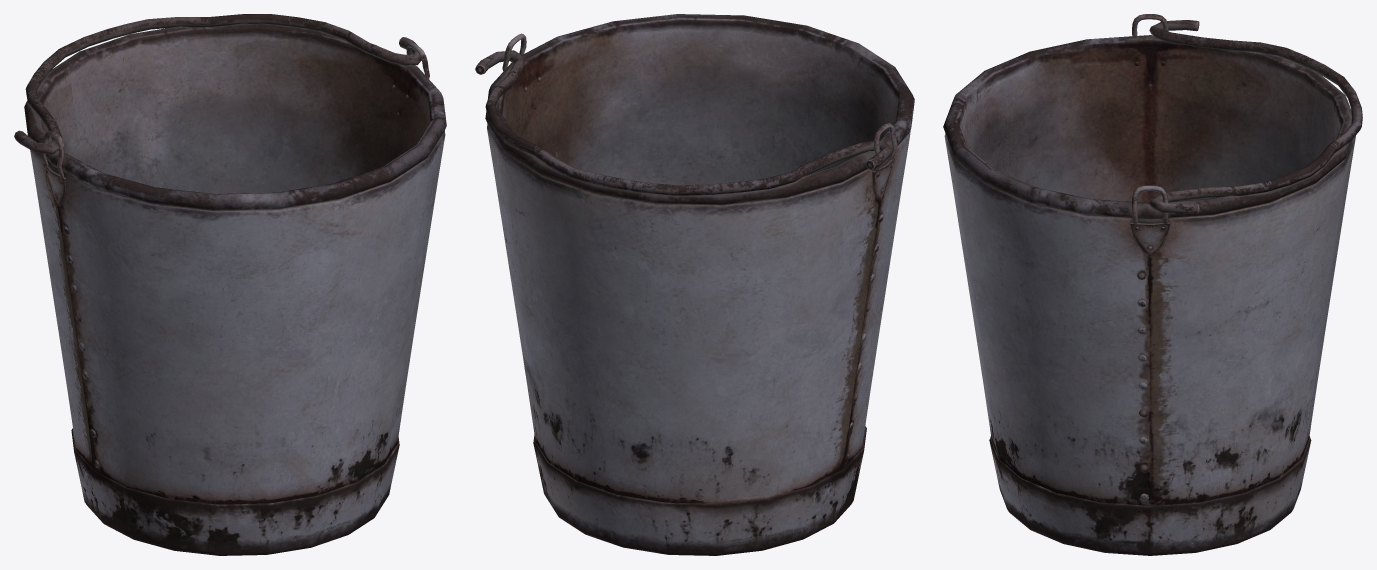
The model's file is fish_bucket.glb.
The picture shows the model from 3 angles, left to right: view 1: azimuth 30°, elevation 25°; view 2: azimuth 150°, elevation 25°; view 3: azimuth 270°, elevation 25°; orthographic projection. The views are drawn at different scales.
Visible parts, largest first — view 1: fish_bucket; view 2: fish_bucket; view 3: fish_bucket.
Part boxes in pixels (bbox=[...]): fish_bucket: bbox=[14, 14, 446, 555]; fish_bucket: bbox=[475, 14, 914, 555]; fish_bucket: bbox=[943, 14, 1362, 555].
Bounding box in the file's own units: 0.27 × 0.2631 × 0.2541.
1 material, 1 textured.
